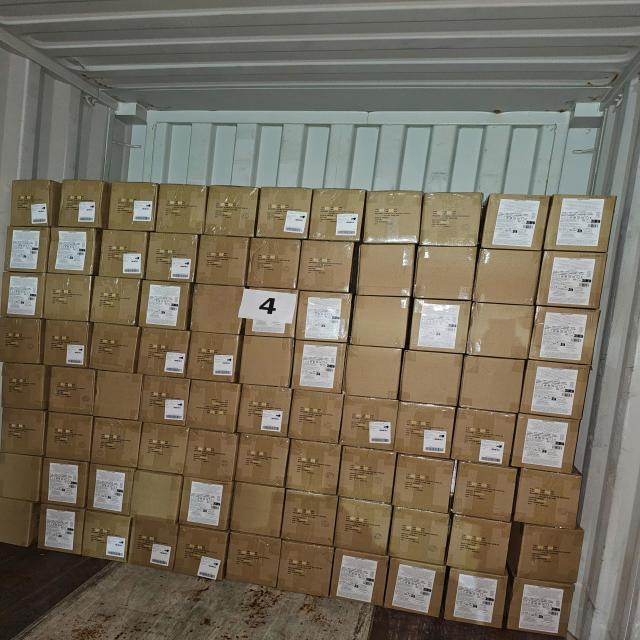Carton: (536, 251, 605, 309), (530, 309, 599, 366), (544, 197, 614, 253), (511, 581, 578, 639), (517, 469, 582, 528), (519, 526, 584, 585), (516, 413, 582, 470), (525, 359, 591, 416), (448, 568, 510, 628), (482, 194, 548, 250), (469, 303, 533, 360), (476, 250, 540, 307), (454, 406, 515, 465), (456, 462, 518, 520), (386, 556, 446, 615), (452, 518, 513, 576), (463, 354, 525, 411), (396, 456, 454, 514), (410, 301, 470, 357), (402, 348, 462, 404), (393, 510, 450, 568), (415, 247, 475, 301), (421, 192, 481, 245), (338, 448, 394, 504), (340, 395, 396, 451), (398, 401, 455, 456), (345, 345, 402, 400), (333, 549, 388, 605), (363, 192, 420, 245), (351, 298, 409, 350), (356, 245, 414, 297), (282, 490, 336, 544), (336, 503, 391, 556), (229, 534, 282, 589), (287, 442, 339, 497), (301, 242, 356, 294), (278, 541, 330, 596), (311, 189, 364, 242), (294, 294, 350, 344), (289, 391, 341, 443), (192, 282, 244, 334), (258, 189, 311, 240), (233, 482, 284, 535), (176, 529, 227, 582), (241, 336, 295, 386), (244, 291, 298, 341), (238, 437, 290, 488), (240, 387, 292, 438), (187, 428, 239, 479), (190, 331, 240, 384), (295, 341, 347, 391), (190, 382, 240, 434), (199, 233, 249, 285), (248, 240, 300, 290), (181, 478, 231, 530), (139, 279, 191, 328), (147, 232, 197, 282), (207, 187, 257, 237), (140, 328, 190, 377), (48, 364, 98, 413), (91, 276, 140, 325), (138, 422, 186, 471), (92, 324, 141, 372), (90, 418, 139, 466), (156, 185, 205, 233), (96, 374, 144, 422), (132, 472, 180, 520), (47, 412, 94, 461), (85, 515, 132, 564), (131, 522, 176, 573), (111, 183, 157, 232), (101, 233, 148, 280), (46, 274, 93, 321), (142, 378, 188, 426), (43, 322, 90, 368), (49, 231, 96, 276), (87, 466, 130, 515), (0, 360, 44, 407), (0, 408, 44, 454), (45, 460, 88, 507), (60, 182, 103, 229), (42, 508, 84, 556), (0, 318, 41, 366), (0, 455, 40, 502), (4, 272, 44, 318), (11, 182, 51, 228), (6, 226, 46, 271), (0, 498, 32, 545)
